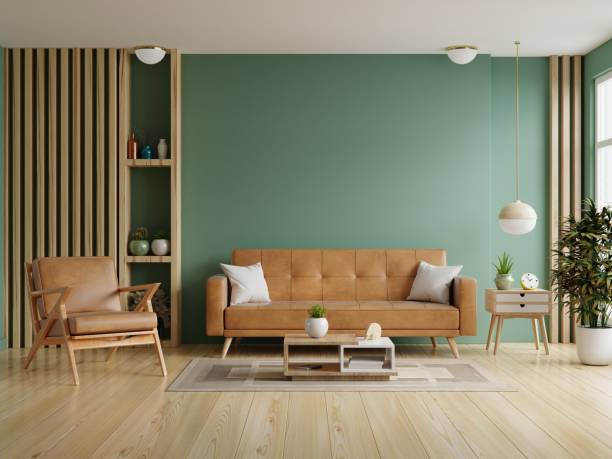chair: (21, 252, 169, 388)
large plant: (557, 195, 612, 368)
small plant: (302, 301, 331, 339), (491, 250, 517, 290)
sofa: (203, 242, 481, 361)
table: (277, 328, 400, 385)
